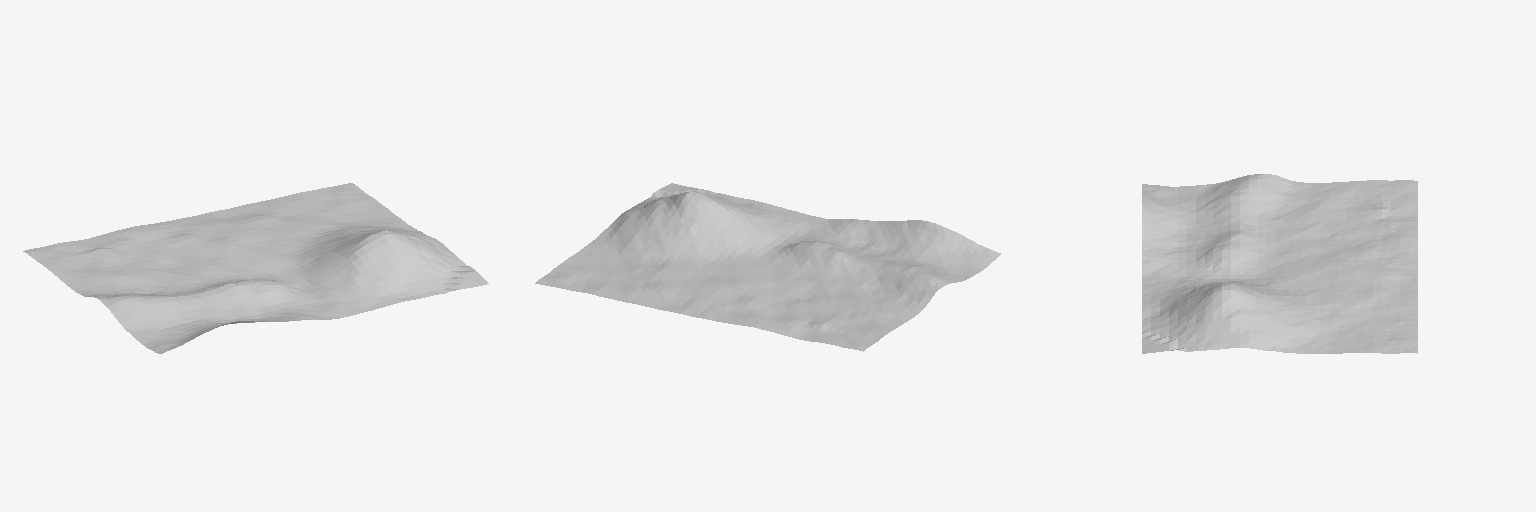
Rendered from GITAM_Campus_Unity.obj.
3 views of the same model, side by side, from view 1: azimuth 30°, elevation 25°; view 2: azimuth 150°, elevation 25°; view 3: azimuth 270°, elevation 25° (orthographic).
Visible parts, largest first — view 1: Terrain; view 2: Terrain; view 3: Terrain.
Part boxes in pixels (x1,y1,x2,y2): Terrain: (23,183,488,353); Terrain: (535,183,1000,351); Terrain: (1142,174,1417,353).
Bounding box in the file's own units: 1325 × 138 × 959.